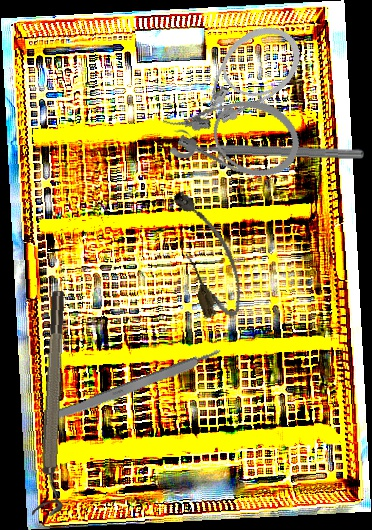Cannula: (173, 12, 314, 141), (154, 74, 309, 189), (164, 181, 251, 325)
Fixation Ring: (32, 290, 78, 517), (168, 127, 365, 165)
Scalpel Handle: (39, 346, 226, 429)
